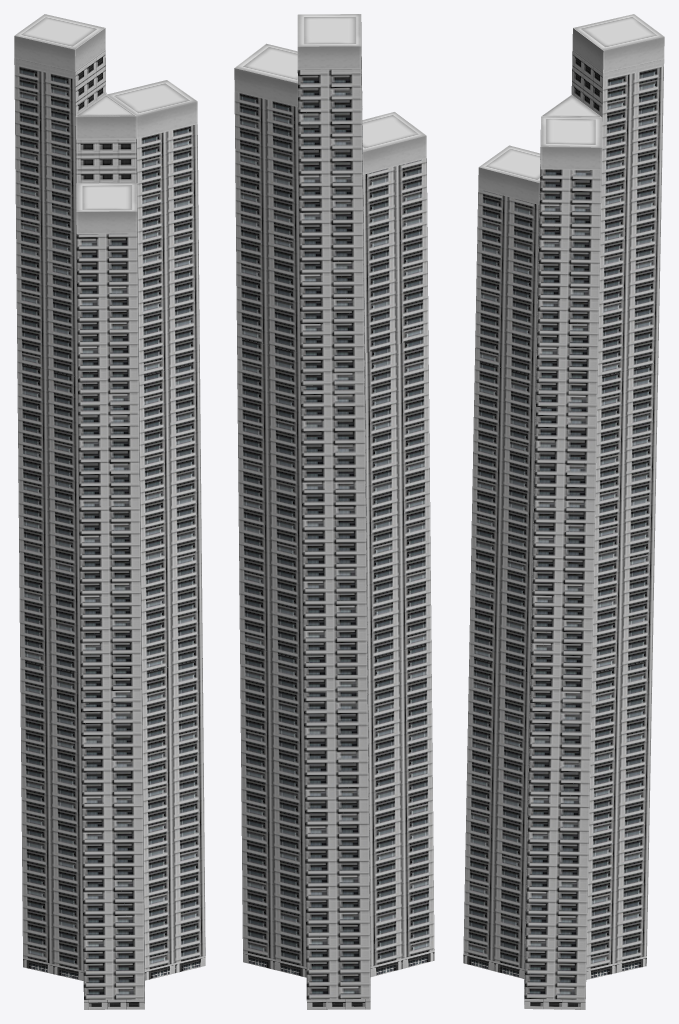
Rendered from skyscrap7.glb.
The picture shows the model from 3 angles, left to right: view 1: azimuth 30°, elevation 25°; view 2: azimuth 150°, elevation 25°; view 3: azimuth 270°, elevation 25°; orthographic projection. The views are drawn at different scales.
Visible parts, largest first — view 1: sk7; view 2: sk7; view 3: sk7.
Boxes of the visible parts, x1=… form: sk7: x1=14, y1=14, x2=205, y2=1009; sk7: x1=234, y1=14, x2=434, y2=1009; sk7: x1=463, y1=14, x2=664, y2=1009.
Size of the model in its own units: 23 by 149 by 29.14.
1 material, 1 textured.
